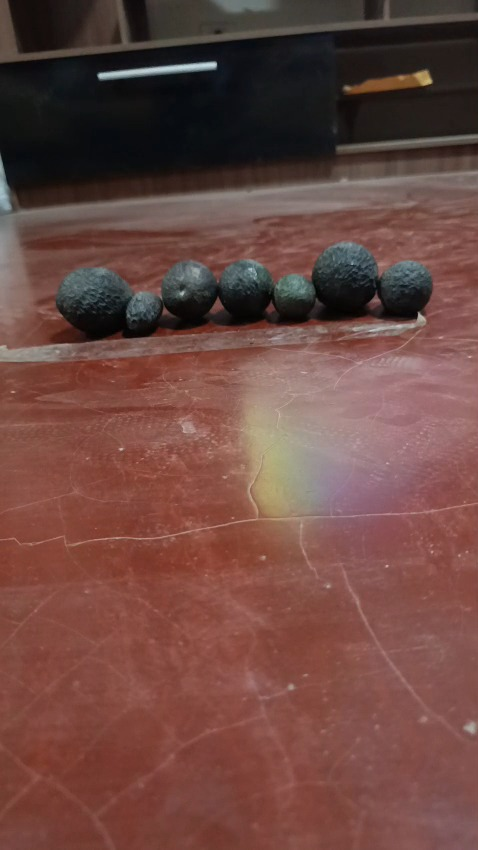Primera: (55, 266, 132, 335), (312, 240, 379, 313)
Segunda: (161, 260, 218, 321), (218, 259, 274, 319), (378, 260, 432, 316)
Tercera: (273, 273, 316, 320), (125, 291, 163, 334)
